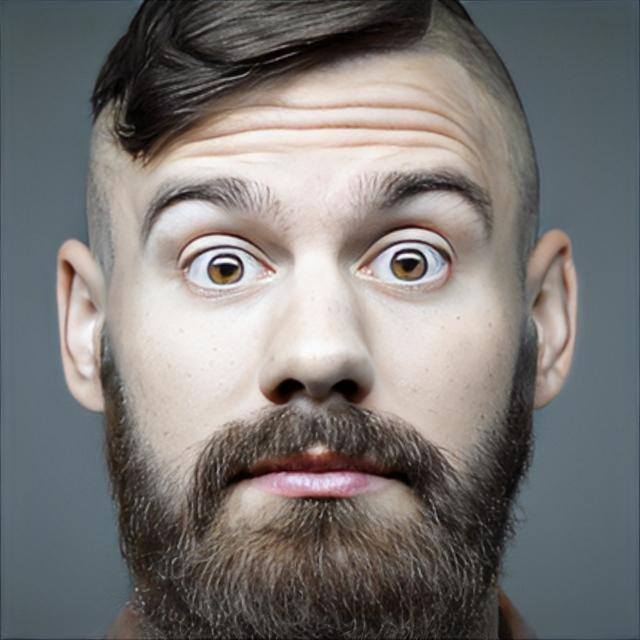surprise: (86, 4, 542, 640)
